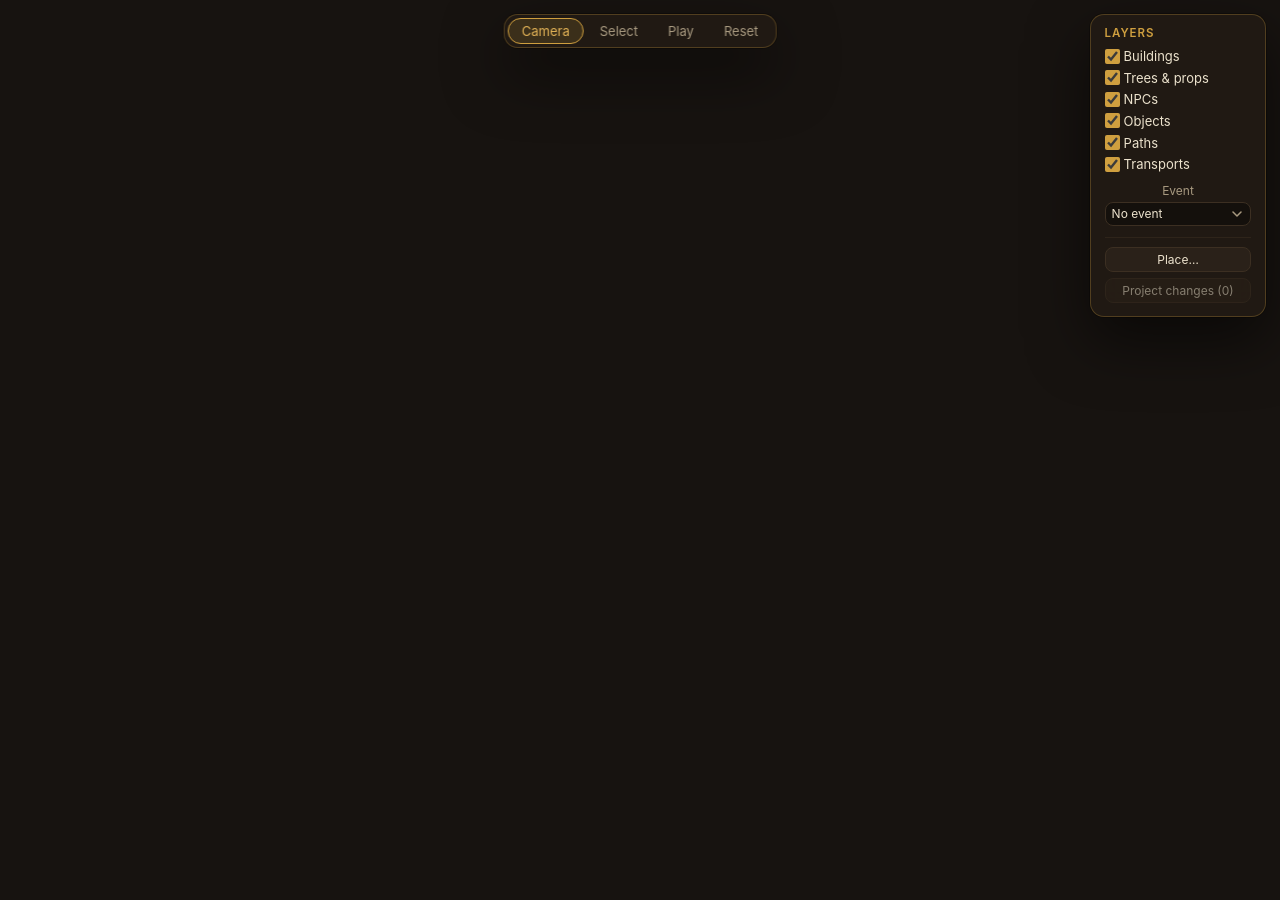
Test case: placing an existing NPC or object from the 3D view › adds the spawn a click placed to the world layer, draws it and selects it
The width and height of the screenshot is (1280, 900).
Click the button "Place…": (1178, 259) [1105,247,1251,272]
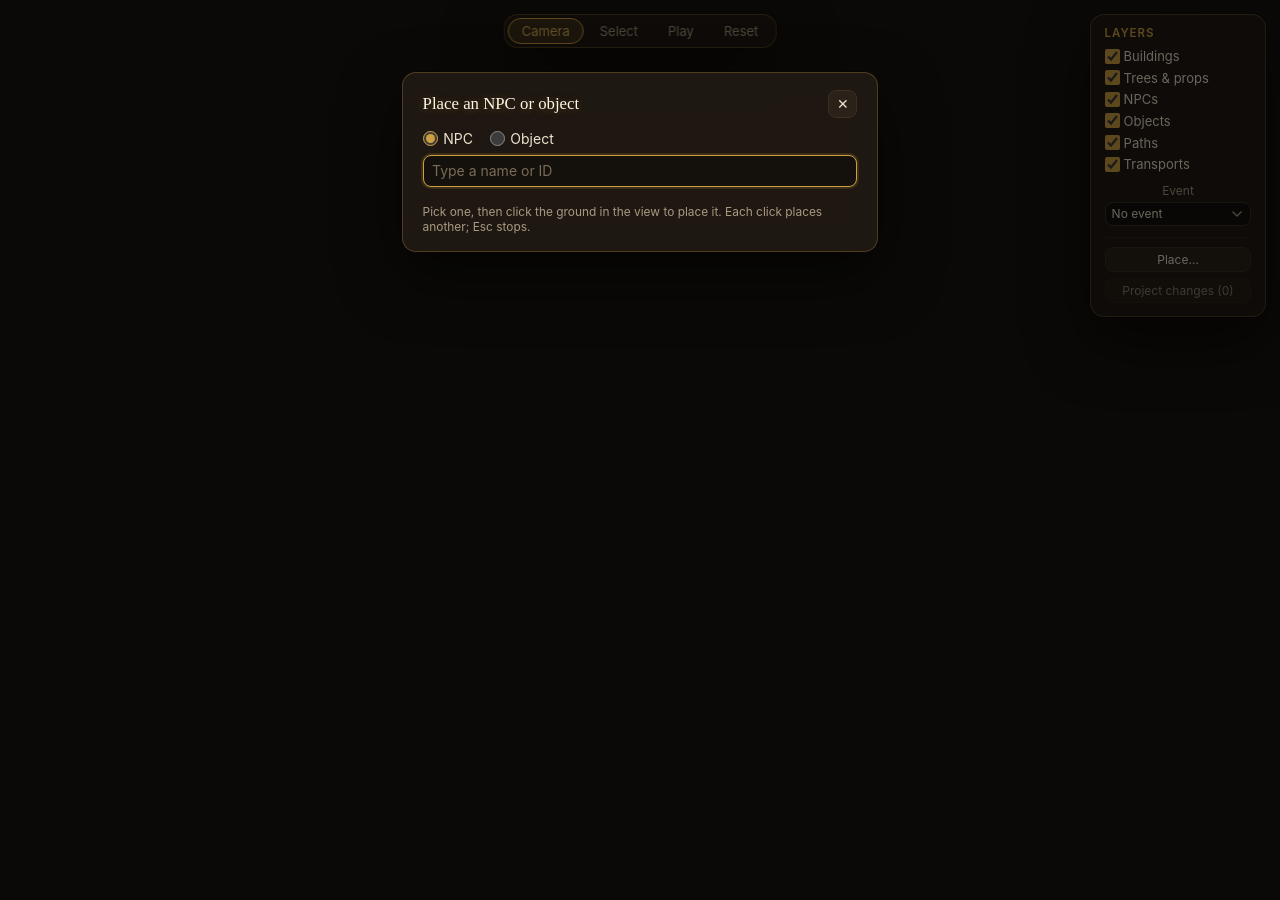
Click the radio button labelled "NPC": (430, 138) [423,131,438,146]
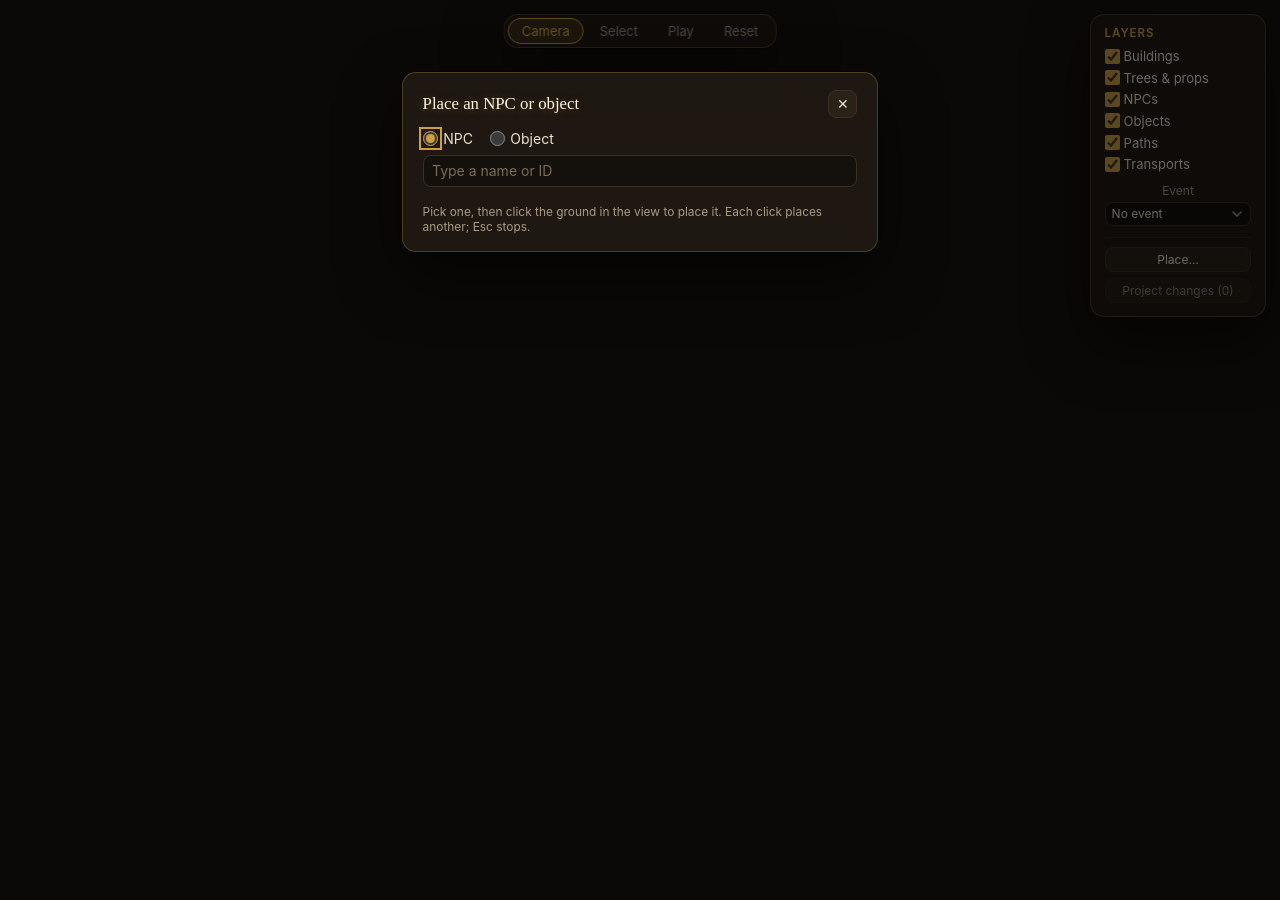
In the search field named "Find by name or ID": (640, 171) [423,155,857,187], type "guard"
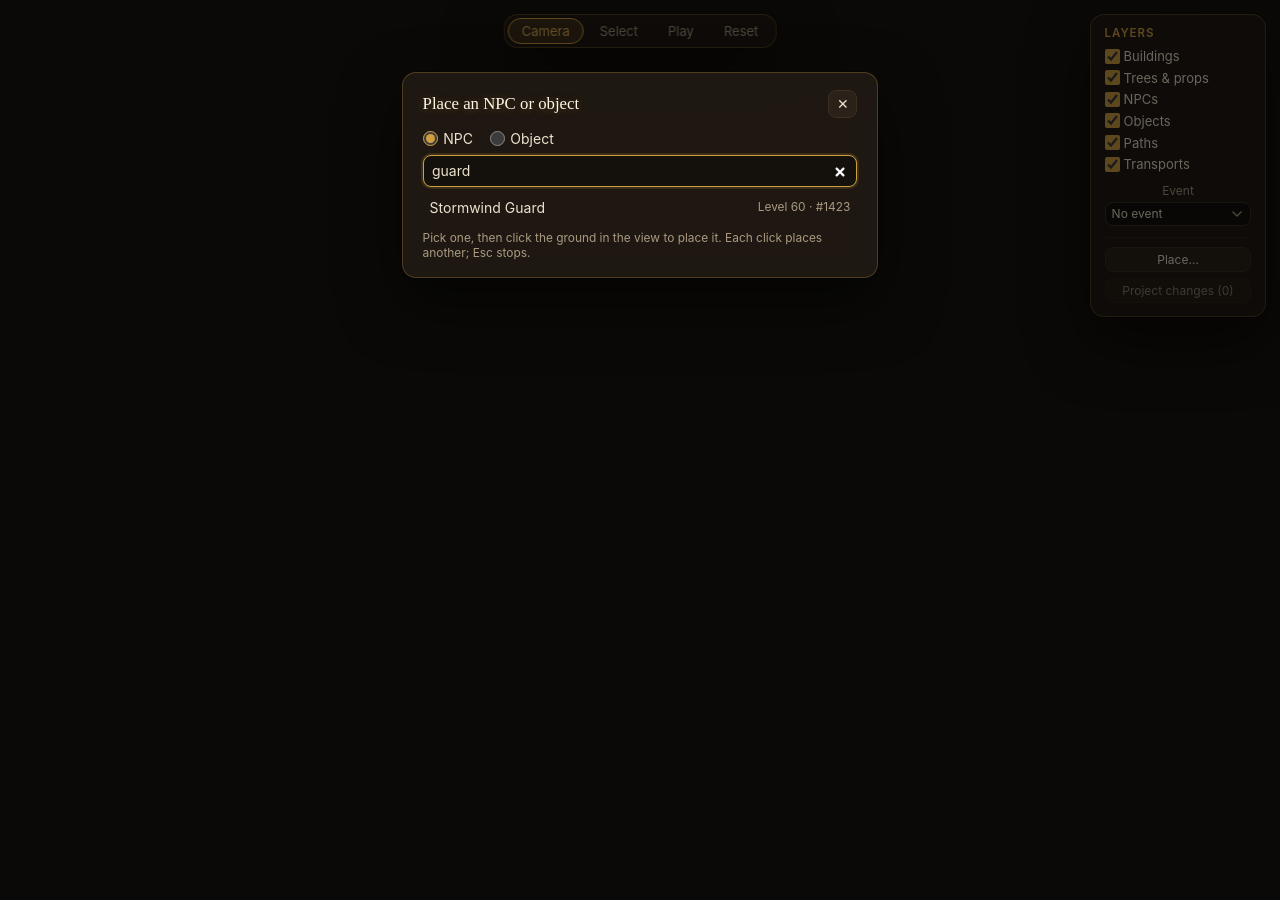
Click the button "Stormwind Guard Level 60 · #1423": (487, 208) [423,195,857,220]
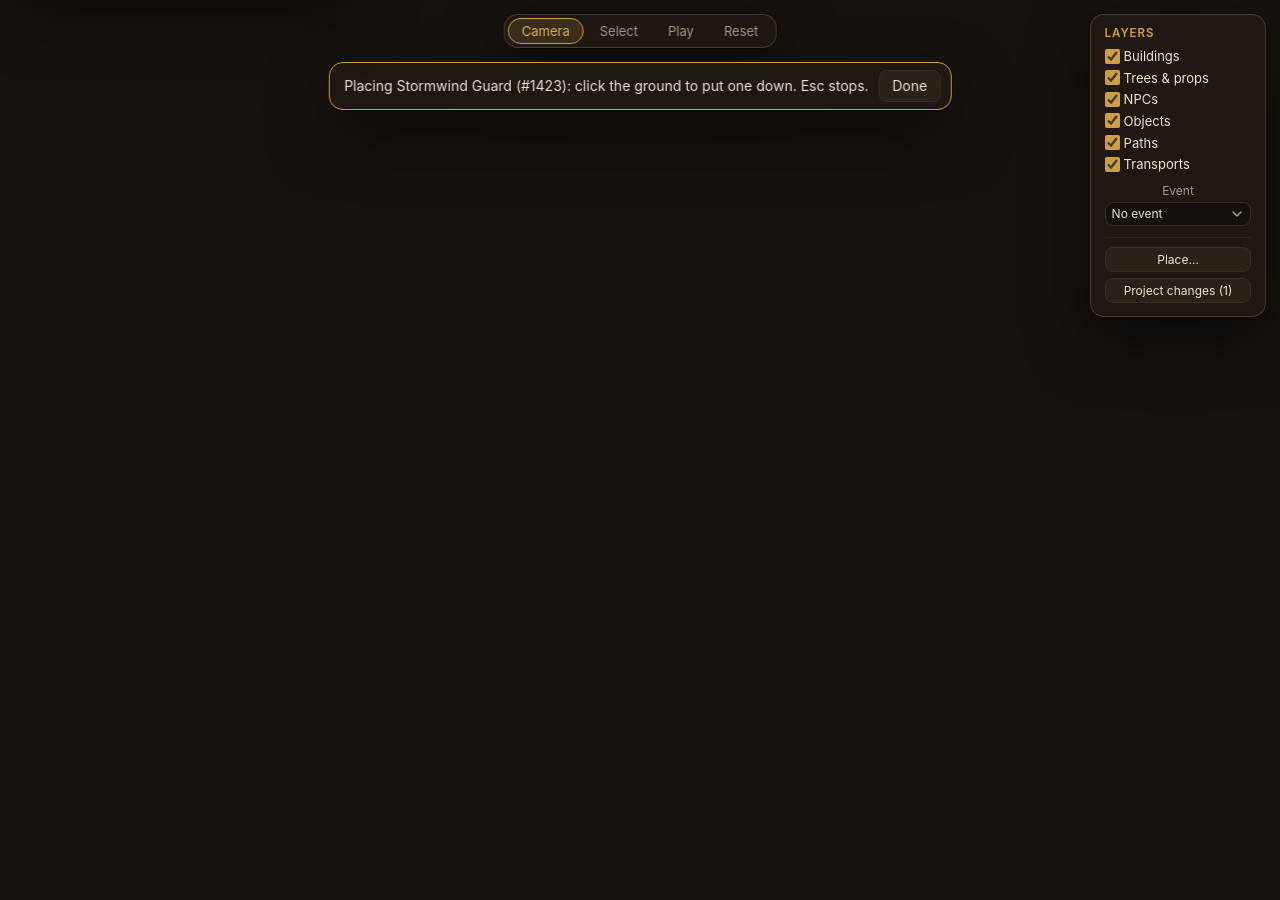
Expected: the button "Project changes (1)" is shown, [1105,278,1251,303]
